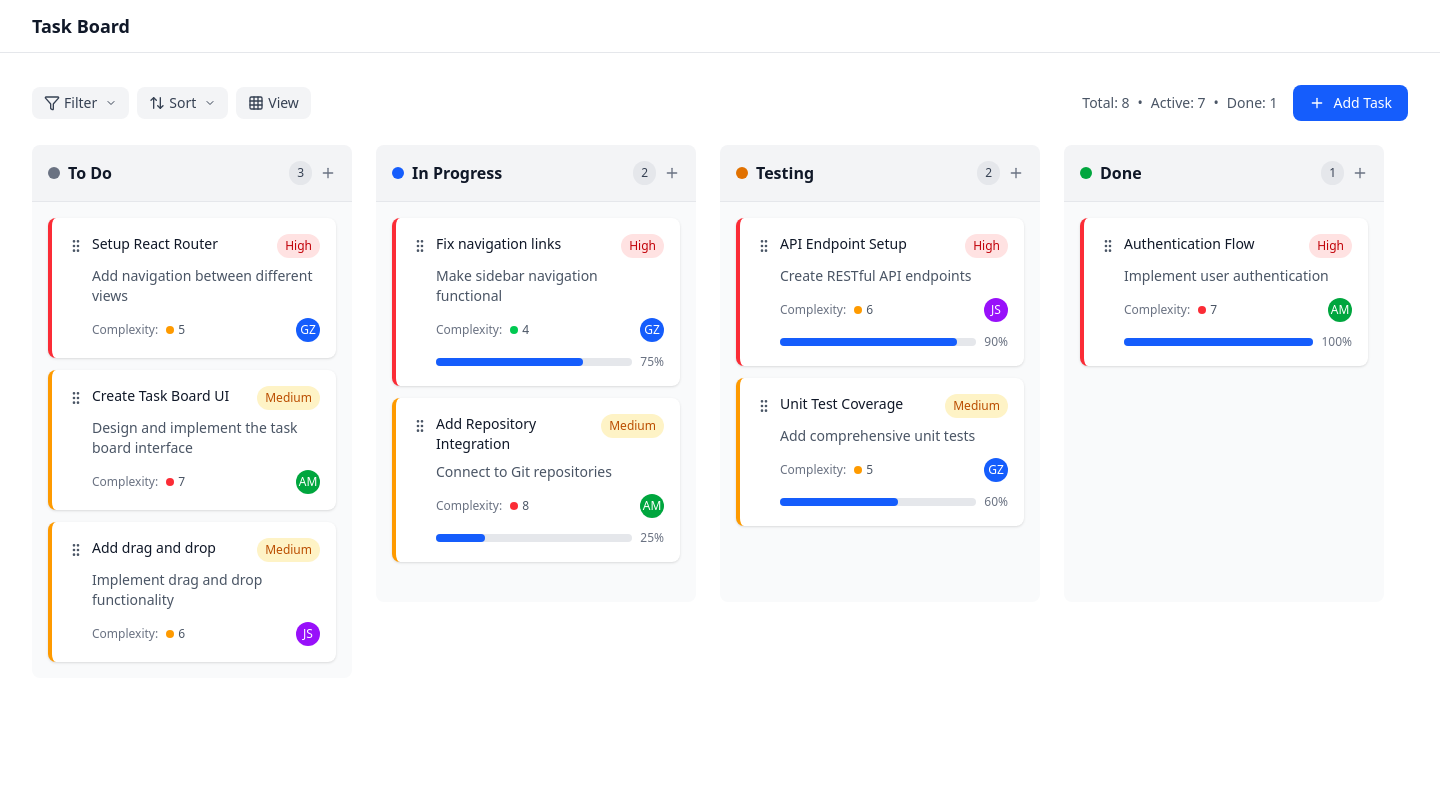
it: TaskBoard › shows filter dropdown and allows filtering
Note: Click filter button
Click the button "Filter" at (81, 103), box [32,87,129,119]
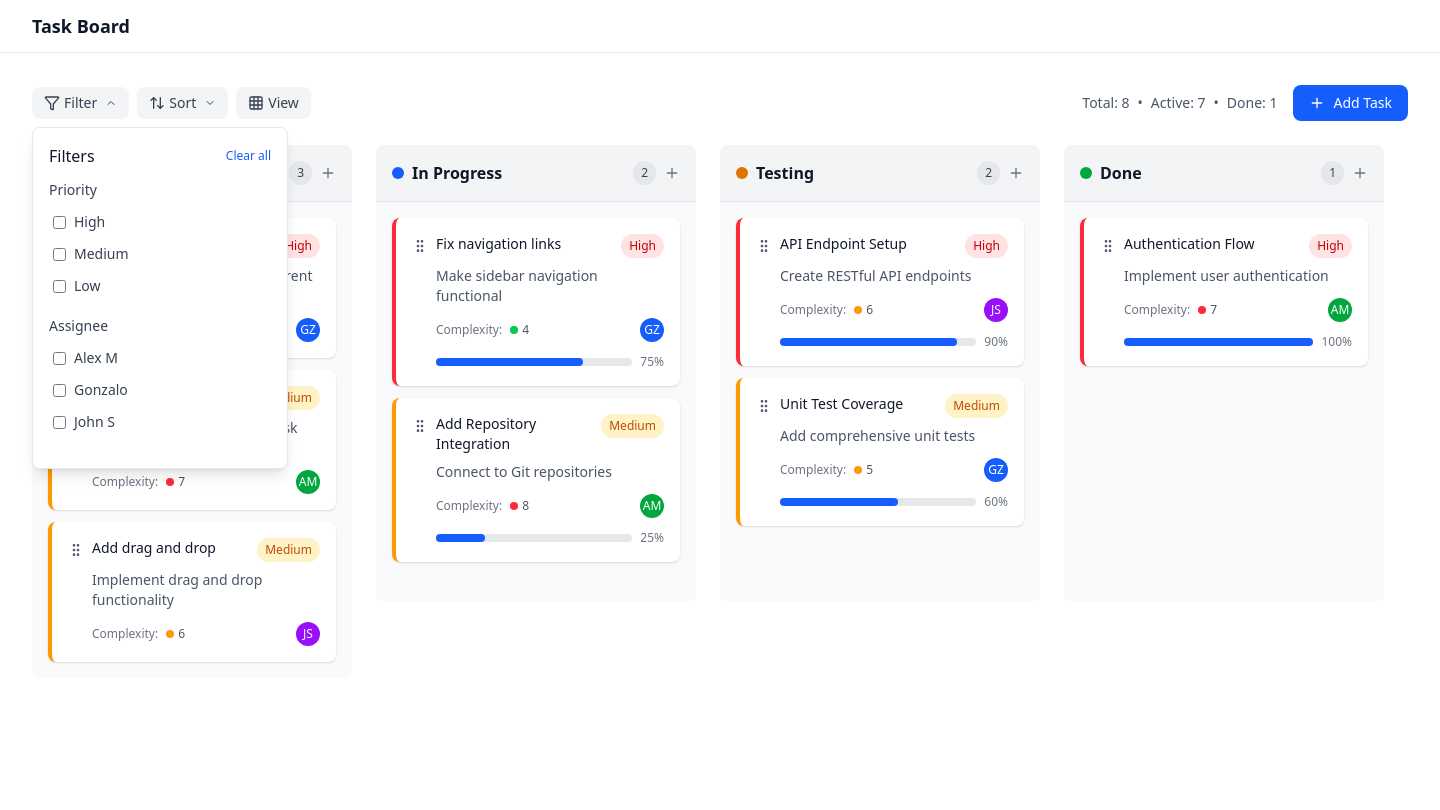
Check: the heading "Filters" is shown, box [49,144,95,168]
Check: the heading "Priority" is shown, box [49,180,97,199]
Check: the heading "Assignee" is shown, box [49,316,108,335]
